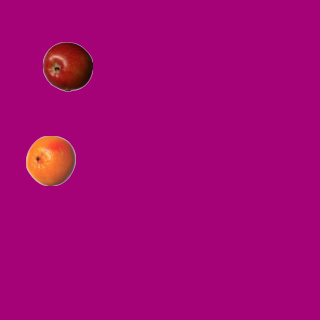Apple Braeburn: (42, 41, 92, 91)
Grapefruit Pink: (25, 135, 75, 185)
